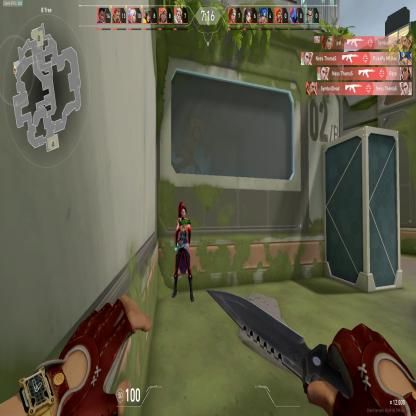enemy: (168, 198, 196, 304)
